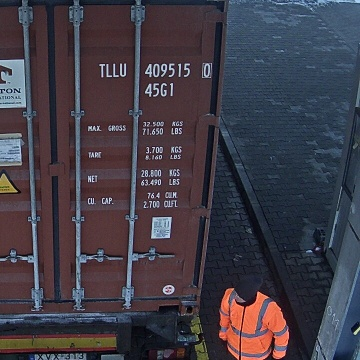serial_id: (99, 63, 210, 77)
